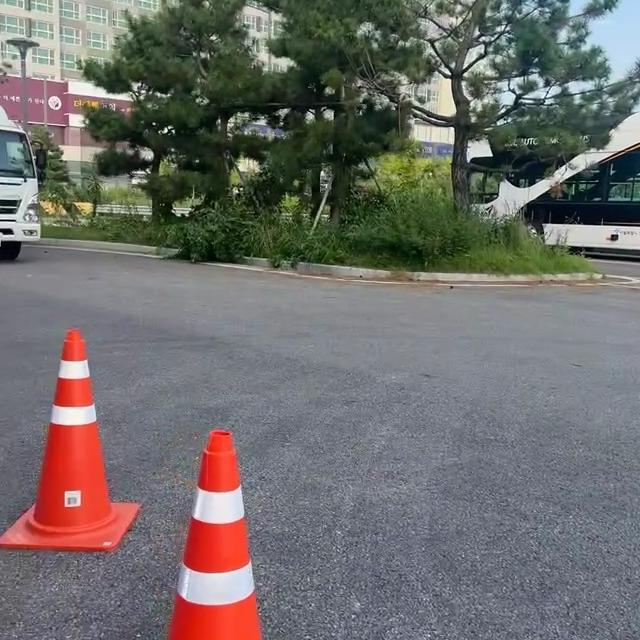fallen_object: (0, 267, 145, 585), (140, 397, 326, 640)
